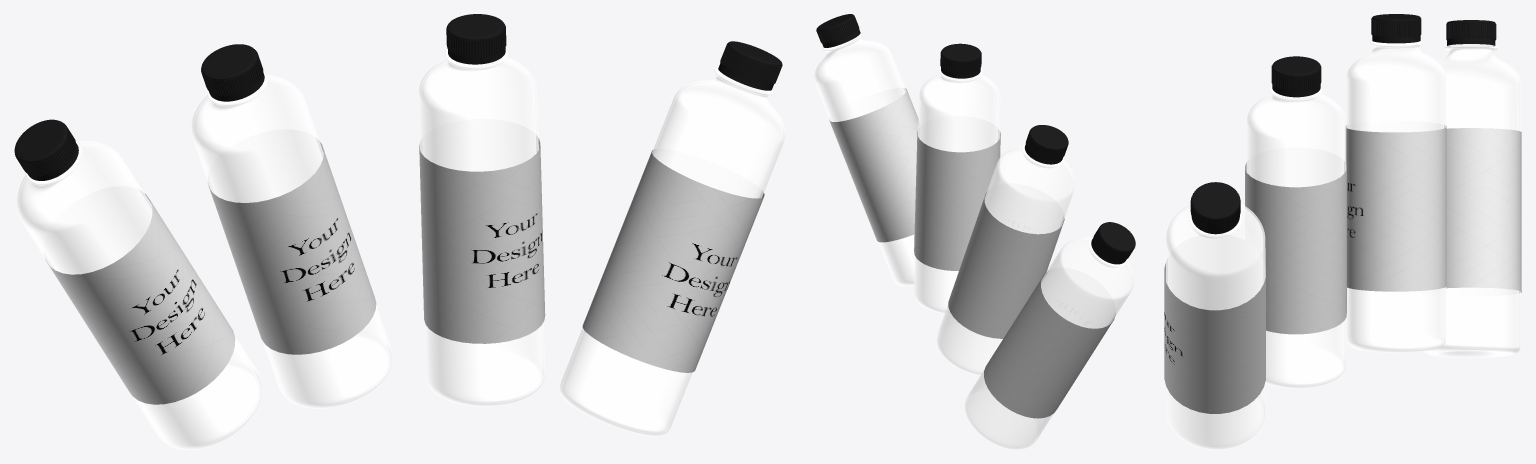
File: Glass_Bottle-A6.glb
The picture shows the model from 3 angles, left to right: view 1: azimuth 30°, elevation 25°; view 2: azimuth 150°, elevation 25°; view 3: azimuth 270°, elevation 25°; orthographic projection. The views are drawn at different scales.
Parts seen in each view (by area): view 1: Label.002, Label, Bottle.002, Label.001, Bottle, Bottle.001, Label.003, Bottle.003, Cap.003, Cap.001, Cap, Cap.002; view 2: Label.003, Bottle.003, Label.001, Label.002, Bottle.001, Label, Bottle, Bottle.002, Cap.003, Cap.001, Cap, Cap.002; view 3: Label.001, Bottle.001, Label, Bottle, Label.003, Bottle.002, Bottle.003, Label.002, Cap.002, Cap, Cap.001, Cap.003.
Boxes of the visible parts, <box> form: Label.002: <box>582,149,764,372</box>; Label: <box>419,135,545,343</box>; Bottle.002: <box>559,67,785,436</box>; Label.001: <box>207,138,376,354</box>; Bottle: <box>418,47,544,406</box>; Bottle.001: <box>191,70,392,408</box>; Label.003: <box>44,190,235,404</box>; Bottle.003: <box>16,140,262,449</box>; Cap.003: <box>14,119,78,180</box>; Cap.001: <box>201,44,264,101</box>; Cap: <box>446,14,506,64</box>; Cap.002: <box>718,41,782,90</box>; Label.003: <box>984,271,1115,418</box>; Bottle.003: <box>964,236,1133,449</box>; Label.001: <box>948,190,1064,338</box>; Label.002: <box>829,88,919,242</box>; Bottle.001: <box>936,143,1075,375</box>; Label: <box>914,128,1000,270</box>; Bottle: <box>913,67,1000,313</box>; Bottle.002: <box>814,32,915,286</box>; Cap.003: <box>1091,222,1135,264</box>; Cap.001: <box>1024,125,1068,164</box>; Cap: <box>940,43,981,78</box>; Cap.002: <box>816,14,860,47</box>; Label.001: <box>1345,125,1446,291</box>; Bottle.001: <box>1346,40,1446,352</box>; Label: <box>1245,161,1346,334</box>; Bottle: <box>1246,85,1346,388</box>; Label.003: <box>1445,128,1521,292</box>; Bottle.002: <box>1166,204,1265,449</box>; Bottle.003: <box>1424,44,1520,357</box>; Label.002: <box>1164,259,1265,413</box>; Cap.002: <box>1190,182,1240,234</box>; Cap: <box>1271,56,1321,97</box>; Cap.001: <box>1371,14,1421,43</box>; Cap.003: <box>1446,20,1496,46</box>.
Size of the model in its own units: 8.39 by 5.9 by 5.11.
Materials: 3 (1 with a texture image).
